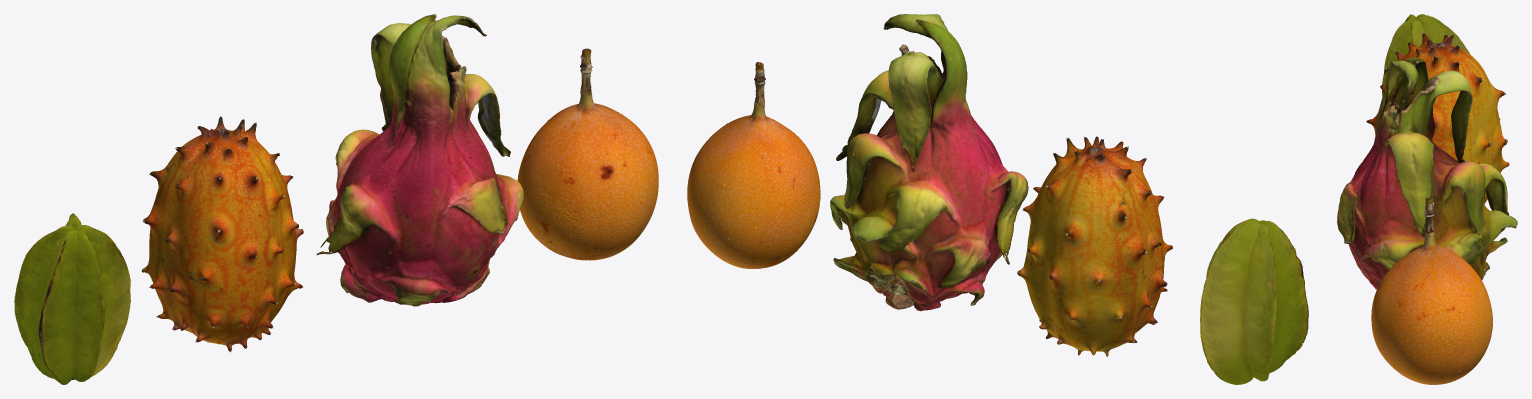
File: fruits.glb
3 views of the same model, side by side, from view 1: azimuth 30°, elevation 25°; view 2: azimuth 150°, elevation 25°; view 3: azimuth 270°, elevation 25° (orthographic). The views are drawn at different scales.
Parts seen in each view (by area): view 1: Object_5, Object_4, Object_2, Object_3; view 2: Object_5, Object_4, Object_2, Object_3; view 3: Object_5, Object_2, Object_4, Object_3.
Boxes of the visible parts, left/top/right/bottom form: Object_5: left=316, top=14, right=523, bottom=306; Object_4: left=141, top=116, right=303, bottom=352; Object_2: left=517, top=48, right=658, bottom=260; Object_3: left=14, top=213, right=130, bottom=384; Object_5: left=830, top=14, right=1028, bottom=311; Object_4: left=1017, top=136, right=1172, bottom=356; Object_2: left=687, top=62, right=820, bottom=268; Object_3: left=1200, top=218, right=1308, bottom=384; Object_5: left=1337, top=57, right=1517, bottom=289; Object_2: left=1371, top=197, right=1492, bottom=384; Object_4: left=1366, top=32, right=1509, bottom=203; Object_3: left=1382, top=14, right=1469, bottom=96.
Bounding box in the file's own units: 5.07 × 2.24 × 1.46.
Materials: 4 (4 with a texture image).
